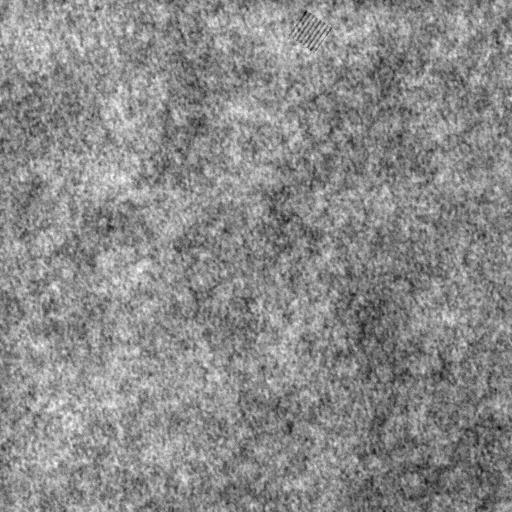DefectTypeB: (289, 9, 330, 51)
